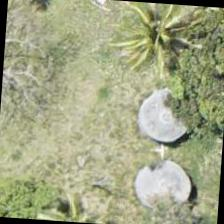Kelapa_Sawit: (103, 0, 199, 80)
